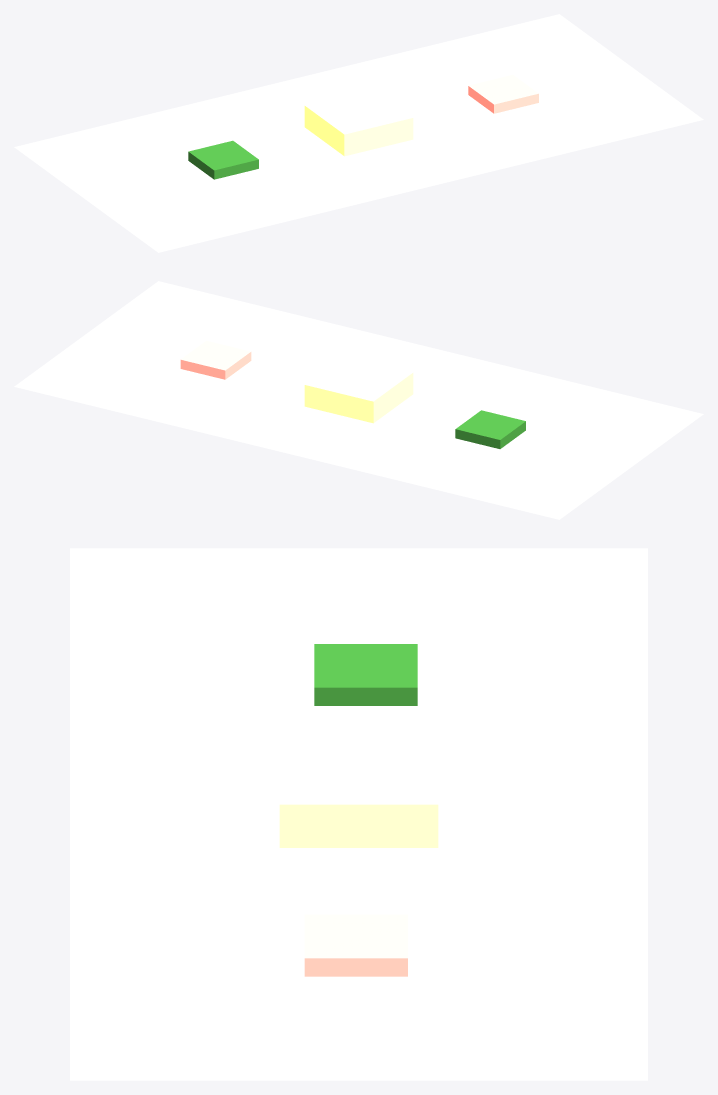
File: scene_1_mockup.glb
3 views of the same model, one above another, from view 1: azimuth 30°, elevation 25°; view 2: azimuth 150°, elevation 25°; view 3: azimuth 270°, elevation 25° (orthographic). The views are drawn at different scales.
Parts seen in each view (by area): view 1: Plane, Cube, Cube.004, Cube.001; view 2: Plane, Cube, Cube.004, Cube.001; view 3: Plane, Cube, Cube.004, Cube.001.
Part boxes in pixels (x1=…): Plane: x1=14, y1=14, x2=703, y2=252; Cube: x1=304, y1=89, x2=413, y2=156; Cube.004: x1=468, y1=75, x2=538, y2=113; Cube.001: x1=188, y1=140, x2=258, y2=179; Plane: x1=14, y1=281, x2=703, y2=519; Cube: x1=304, y1=356, x2=413, y2=423; Cube.004: x1=180, y1=341, x2=251, y2=379; Cube.001: x1=455, y1=410, x2=525, y2=448; Plane: x1=70, y1=548, x2=647, y2=1080; Cube: x1=279, y1=737, x2=438, y2=847; Cube.004: x1=304, y1=914, x2=407, y2=976; Cube.001: x1=314, y1=644, x2=417, y2=705.
Size of the model in its own units: 15.88 by 2 by 7.29.
